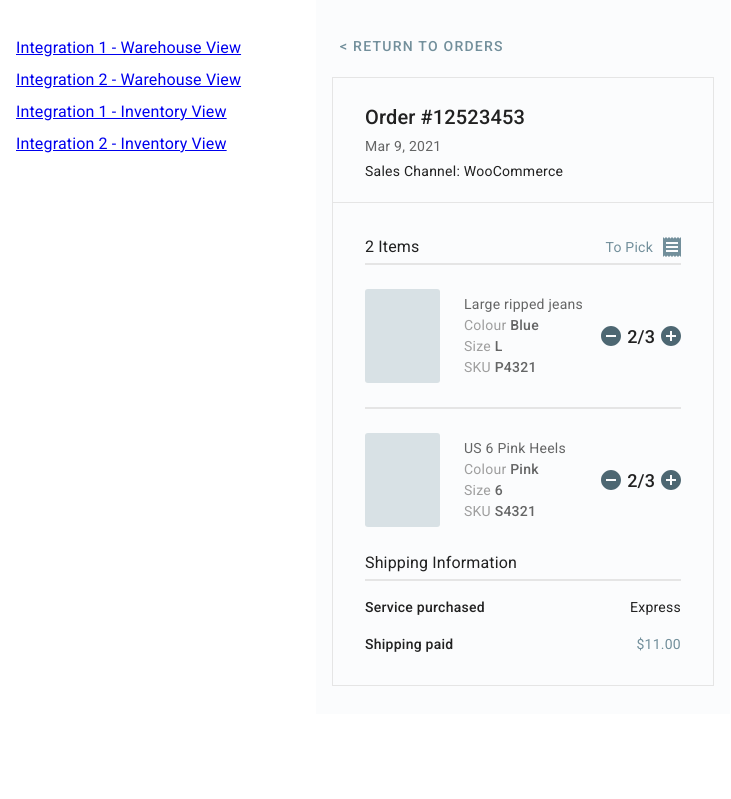
Test: renders Integration 1 - Inventory View
Click the link "Integration 1 - Inventory View" at [121, 112], box top-left (16, 102), bottom-right (227, 121)
(page scrolled)
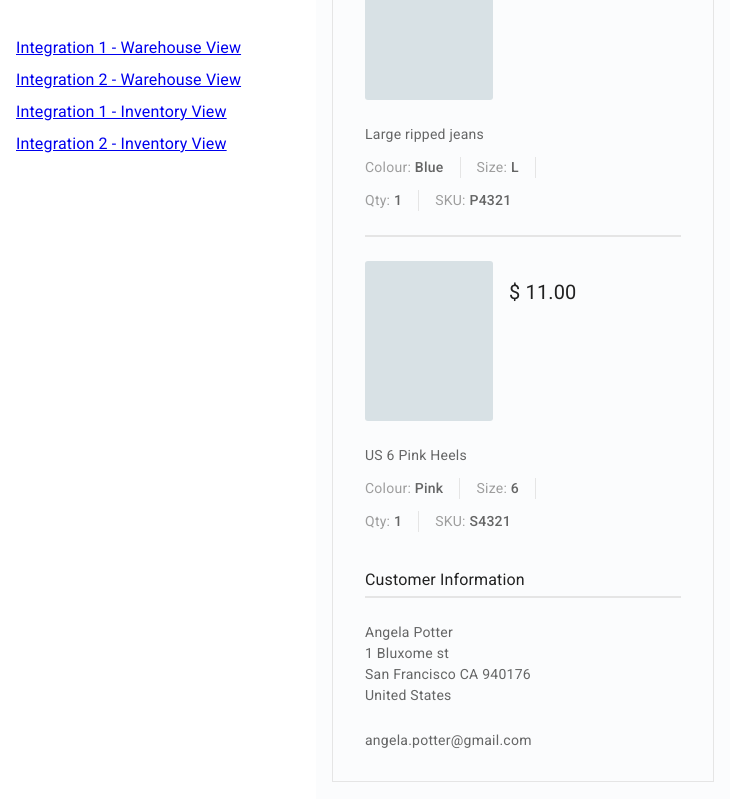
expect the text "Shipping Information" is gone: met
expect the text "Customer Information" is shown: met, box top-left (365, 568), bottom-right (525, 592)
